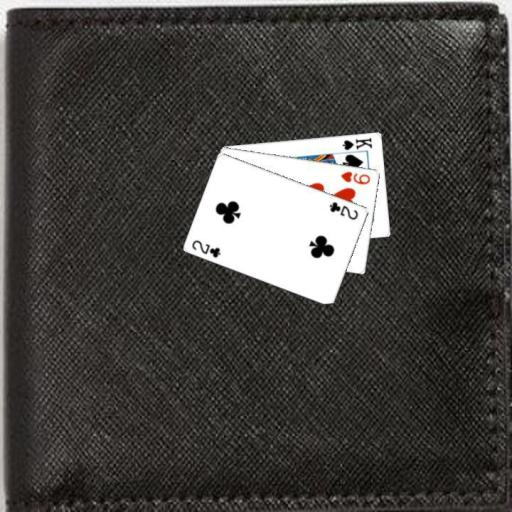2C: (326, 199, 360, 222), (189, 237, 223, 259)
9H: (338, 168, 372, 186)
KS: (339, 134, 374, 151)
